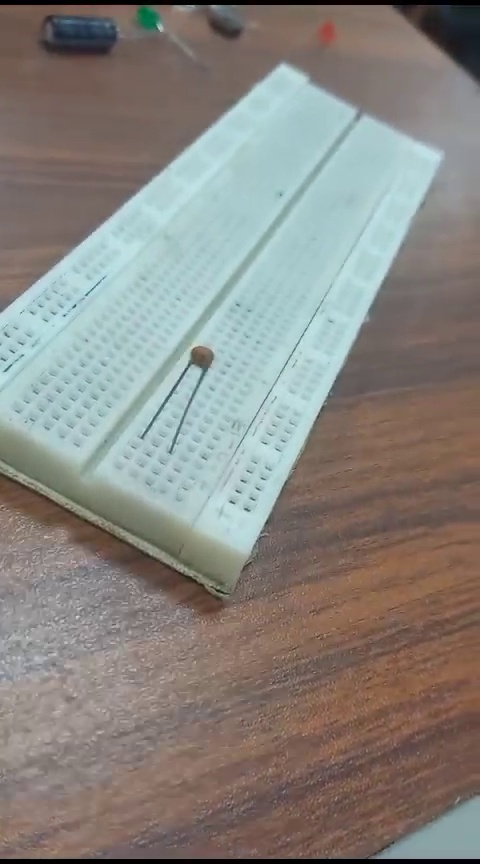ceramic capacitor: (143, 337, 219, 463)
